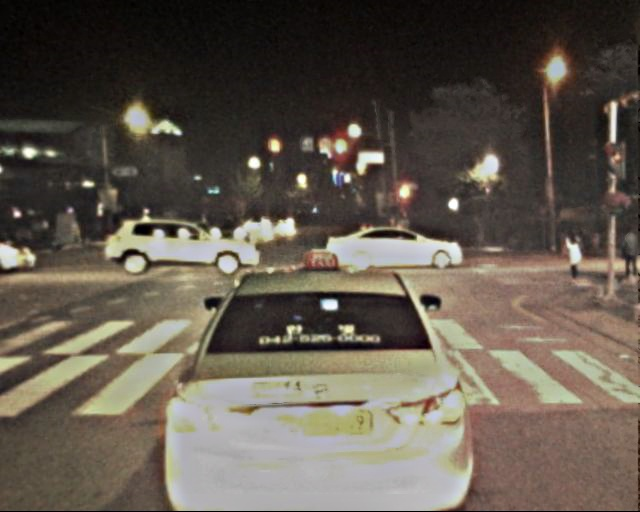person: (617, 227, 639, 285), (564, 227, 586, 280)
